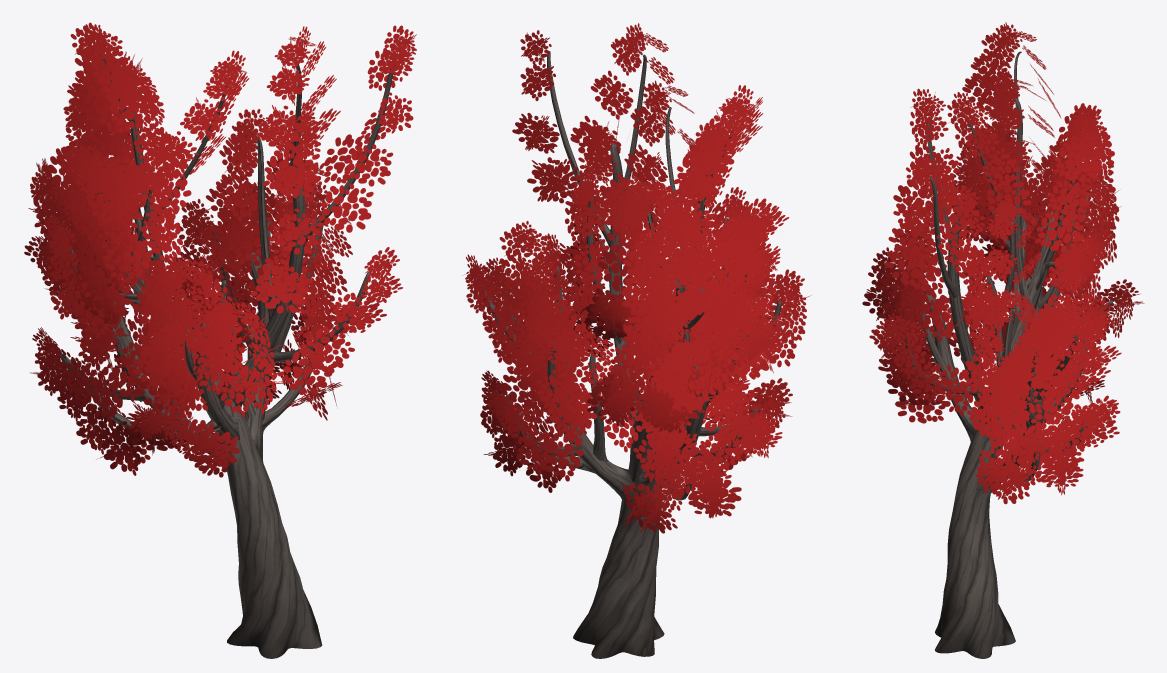
File: twisted-tree.glb
3 renders of one model, left to right at view 1: azimuth 30°, elevation 25°; view 2: azimuth 150°, elevation 25°; view 3: azimuth 270°, elevation 25°, orthographic. The views are drawn at different scales.
Parts seen in each view (by area): view 1: TwistedTree_2; view 2: TwistedTree_2; view 3: TwistedTree_2.
Part boxes in pixels (x1=…): TwistedTree_2: x1=24, y1=22, x2=416, y2=658; TwistedTree_2: x1=463, y1=23, x2=811, y2=658; TwistedTree_2: x1=862, y1=22, x2=1144, y2=658.
Bounding box in the file's own units: 10.56 × 18.95 × 9.2.
2 materials, 2 textured.
